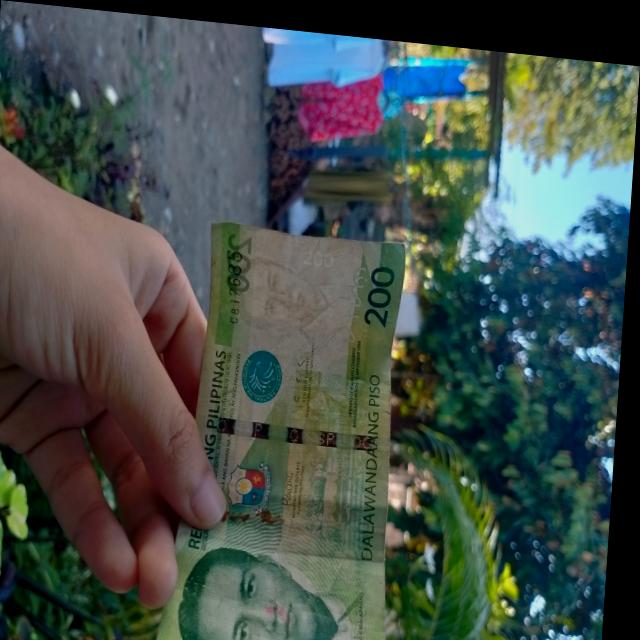security_thread: (199, 407, 398, 445)
see_through_mark: (338, 246, 375, 349)
value_watermark: (303, 238, 337, 269)
watermark: (234, 243, 347, 350)
